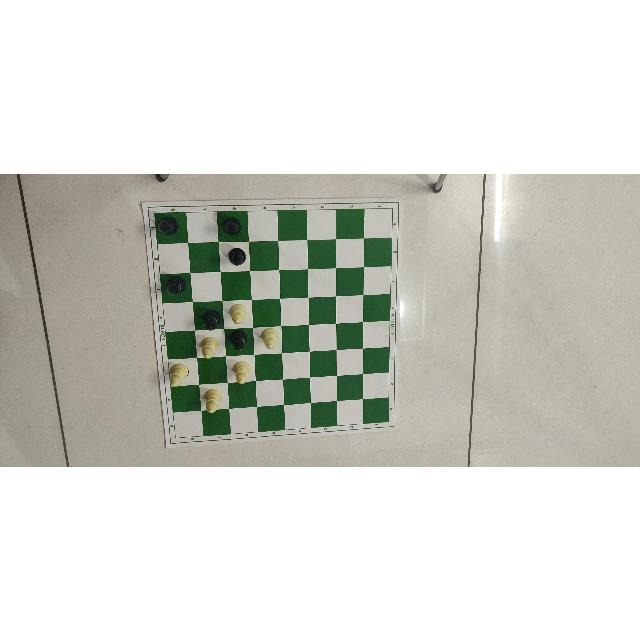black-bishop: (151, 215, 182, 240), (219, 212, 246, 240), (195, 305, 224, 330), (224, 246, 248, 271), (227, 327, 250, 351), (166, 274, 188, 298)
white-bishop: (254, 326, 285, 354), (197, 329, 222, 361), (199, 389, 230, 414), (227, 297, 254, 325), (229, 358, 255, 382), (167, 363, 190, 387)
